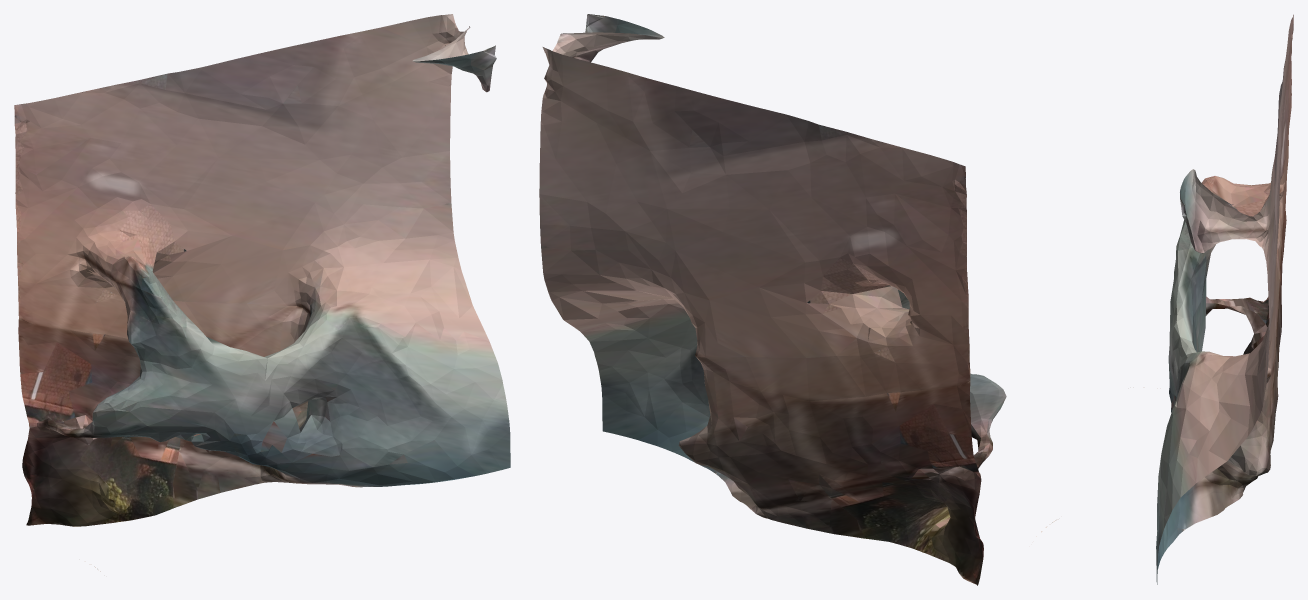
File: tile_14_8.obj
The picture shows the model from 3 angles, left to right: view 1: azimuth 30°, elevation 25°; view 2: azimuth 150°, elevation 25°; view 3: azimuth 270°, elevation 25°; orthographic projection. The views are drawn at different scales.
Parts seen in each view (by area): view 1: texture_0; view 2: texture_0; view 3: texture_0.
Part boxes in pixels (x1,y1,x2,y2): texture_0: [14, 14, 510, 571]; texture_0: [539, 14, 1055, 585]; texture_0: [1156, 14, 1293, 584].
Size of the model in its own units: 13.88 by 12.92 by 5.9.
Materials: 1 (1 with a texture image).
